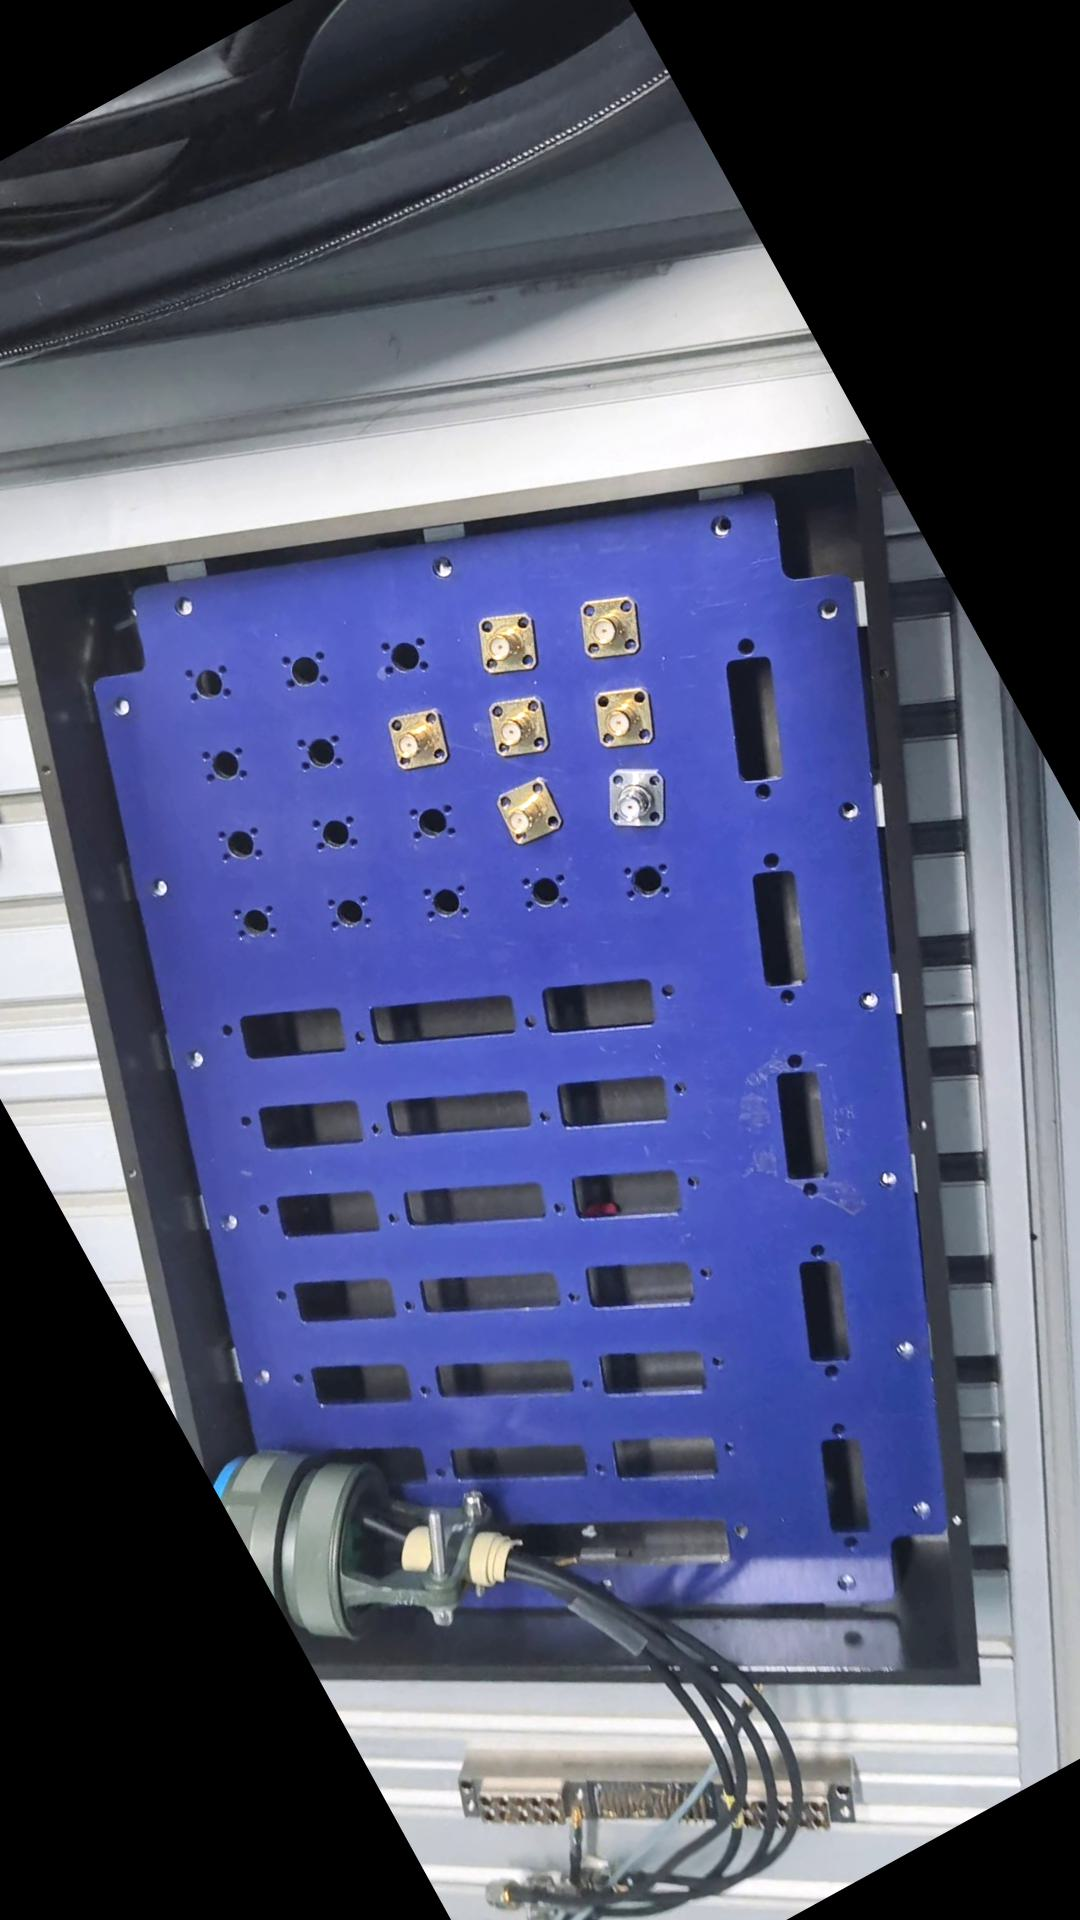SMA: (456, 593, 553, 694), (582, 752, 675, 847), (471, 676, 564, 767), (562, 584, 651, 673), (372, 699, 458, 787), (578, 679, 665, 765), (484, 775, 566, 855)
